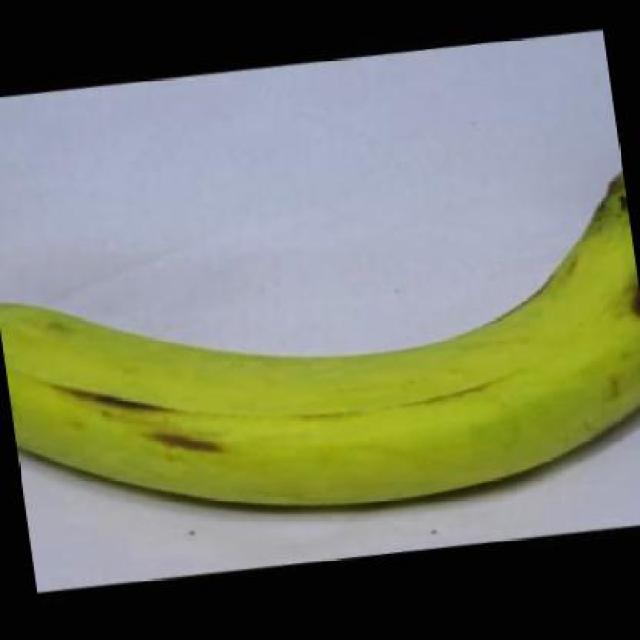ripe: (0, 152, 640, 530)
